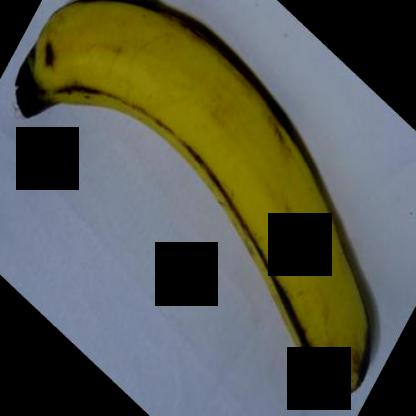ripe: (7, 0, 388, 397)
